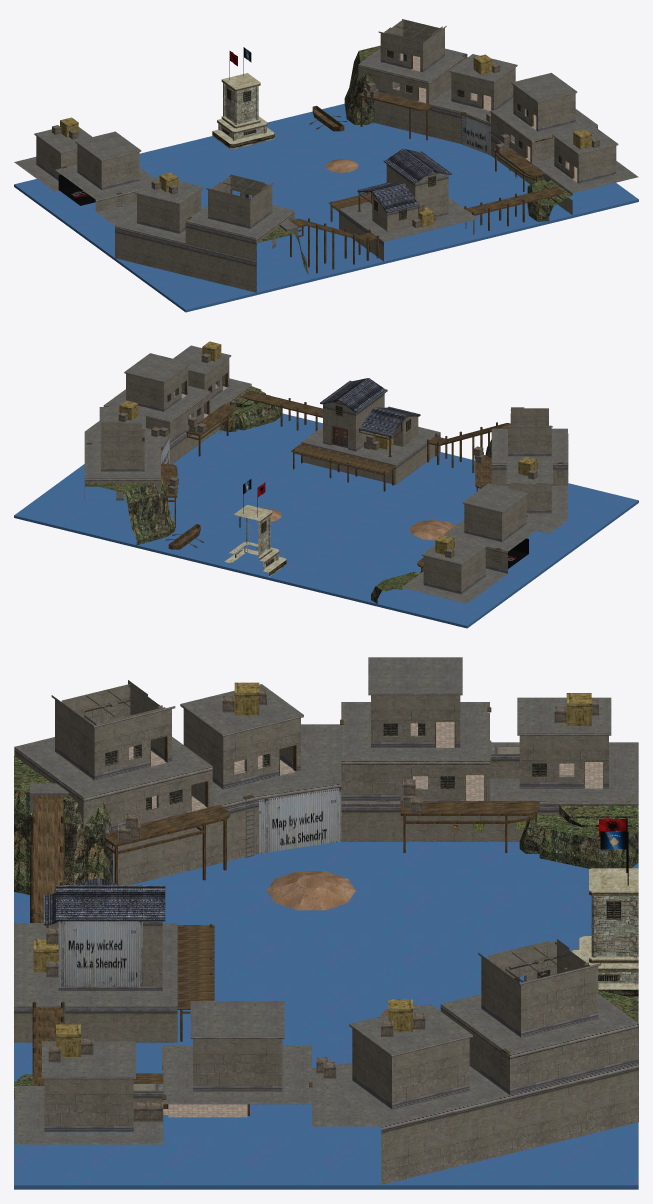
The model's file is awp_kosova.glb.
3 renders of one model, top to bottom at view 1: azimuth 30°, elevation 25°; view 2: azimuth 150°, elevation 25°; view 3: azimuth 270°, elevation 25°, orthographic. The views are drawn at different scales.
Visible parts, largest first — view 1: *0, *38, *7, *6; view 2: *0, *38, *7, *6; view 3: *0, *38, *7.
Boxes of the visible parts, bbox=[...] form: *0: bbox=[14, 19, 638, 292]; *38: bbox=[14, 103, 638, 312]; *7: bbox=[383, 148, 451, 183]; *6: bbox=[357, 182, 419, 213]; *0: bbox=[84, 341, 568, 603]; *38: bbox=[14, 413, 638, 628]; *7: bbox=[320, 378, 387, 412]; *6: bbox=[359, 406, 420, 437]; *0: bbox=[14, 657, 638, 1184]; *38: bbox=[14, 803, 638, 1189]; *7: bbox=[56, 885, 165, 921].
Size of the model in its own units: 92.16 by 17.52 by 60.51.
Materials: 30 (30 with a texture image).
